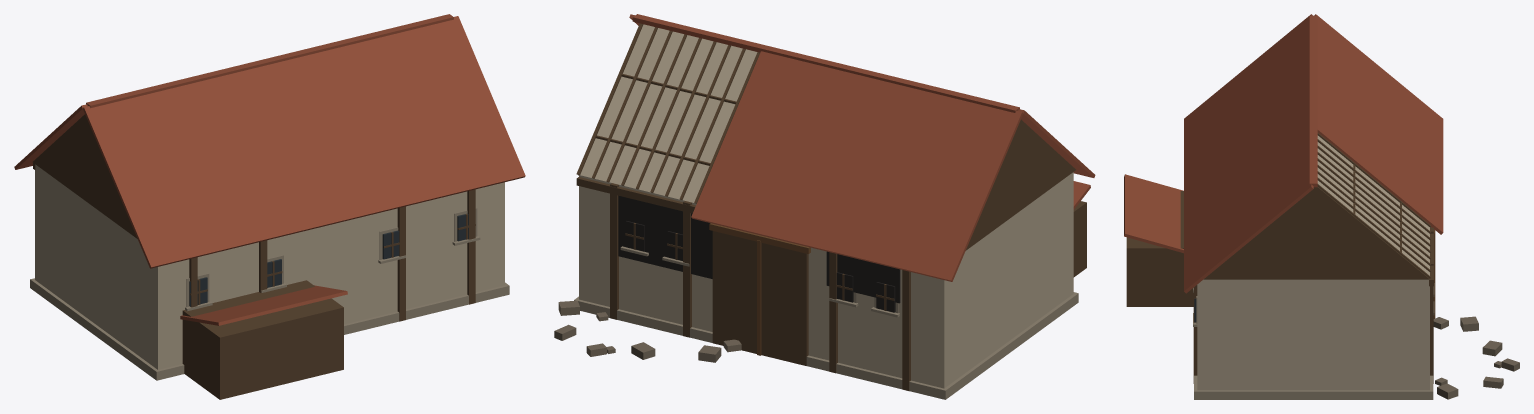
Rendered from barn_damaged.glb.
The picture shows the model from 3 angles, left to right: view 1: azimuth 30°, elevation 25°; view 2: azimuth 150°, elevation 25°; view 3: azimuth 270°, elevation 25°; orthographic projection. The views are drawn at different scales.
Visible parts, largest first — view 1: barn_damaged; view 2: barn_damaged; view 3: barn_damaged.
Boxes of the visible parts, <box> form: barn_damaged: <box>14,14,525,399</box>; barn_damaged: <box>554,14,1095,399</box>; barn_damaged: <box>1124,14,1519,399</box>.
Size of the model in its own units: 15.1 by 8.92 by 14.63.
